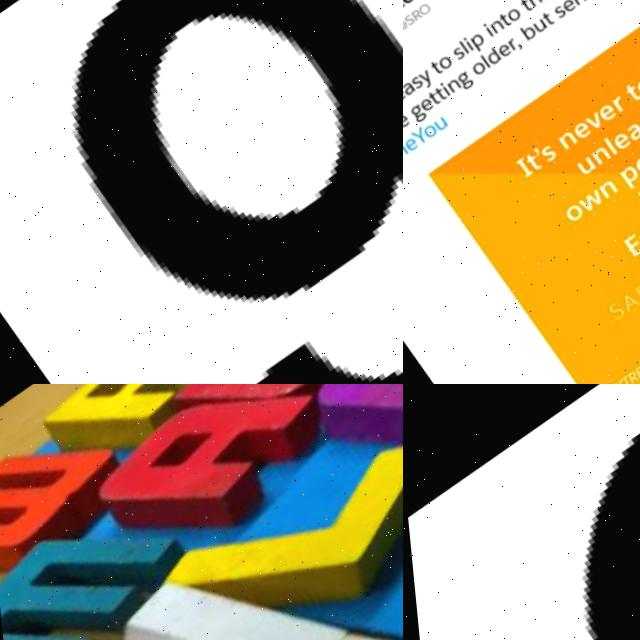9: (0, 0, 403, 384), (410, 384, 640, 640)
A: (57, 384, 356, 584), (609, 295, 630, 317), (618, 126, 639, 146), (403, 80, 411, 97), (532, 0, 550, 6)
B: (514, 24, 534, 45), (629, 188, 640, 213)
D: (479, 48, 498, 69)
E: (614, 236, 638, 262), (590, 106, 612, 128), (566, 123, 586, 144), (605, 135, 626, 155), (413, 97, 430, 114), (491, 44, 508, 61), (556, 0, 573, 17), (619, 369, 635, 384), (403, 137, 412, 153)
G: (286, 384, 403, 487), (403, 103, 423, 124), (450, 71, 470, 92)
H: (0, 527, 369, 640), (520, 0, 540, 11)
I: (508, 158, 527, 180), (457, 38, 470, 55), (434, 83, 447, 100), (478, 25, 490, 41), (571, 0, 583, 5)
L: (141, 401, 403, 640), (596, 140, 611, 159), (474, 56, 485, 71), (455, 42, 465, 56)
M: (0, 470, 204, 640), (628, 362, 640, 379)
N: (582, 147, 606, 170), (550, 133, 572, 154), (590, 183, 611, 203), (484, 20, 502, 37), (440, 78, 457, 95)
O: (556, 205, 578, 226), (431, 54, 449, 73), (625, 158, 640, 179), (465, 61, 483, 78), (501, 9, 518, 26), (416, 123, 433, 140), (628, 79, 640, 102), (413, 3, 428, 18)
P: (612, 167, 637, 194), (465, 34, 484, 54)
R: (25, 384, 254, 470), (624, 285, 640, 306), (605, 99, 622, 117), (406, 9, 419, 23), (502, 40, 514, 54), (615, 373, 628, 384), (566, 0, 580, 9)
S: (596, 304, 616, 325), (533, 146, 553, 166), (446, 46, 463, 64), (404, 76, 420, 92), (548, 7, 564, 23), (631, 116, 640, 137), (403, 13, 411, 27)
T: (516, 153, 537, 176), (618, 86, 638, 108), (420, 92, 436, 109), (423, 60, 438, 77), (493, 13, 508, 30), (536, 13, 551, 30), (514, 0, 529, 15), (429, 87, 442, 103), (608, 378, 622, 384)
U: (156, 384, 390, 460), (569, 159, 589, 179), (426, 116, 443, 133), (528, 21, 544, 37)
V: (578, 116, 598, 136)
W: (0, 393, 144, 602), (569, 191, 599, 217)
X: (629, 232, 640, 252)
Y: (412, 69, 430, 89), (404, 128, 422, 147)
